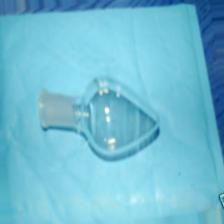Pear shaped flask: (28, 75, 170, 155)
